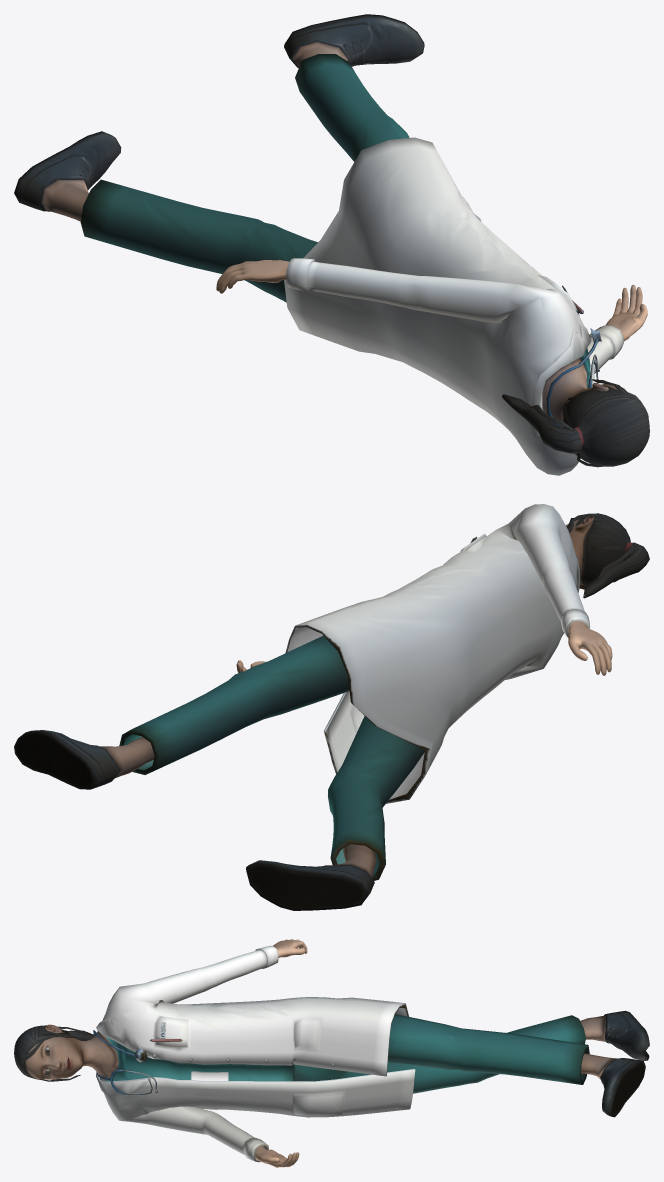
Rendered from walk.obj.
3 renders of one model, top to bottom at view 1: azimuth 30°, elevation 25°; view 2: azimuth 150°, elevation 25°; view 3: azimuth 270°, elevation 25°, orthographic. The views are drawn at different scales.
Size of the model in its own units: 0.9225 by 0.3716 by 1.7.
Materials: 1 (1 with a texture image).
